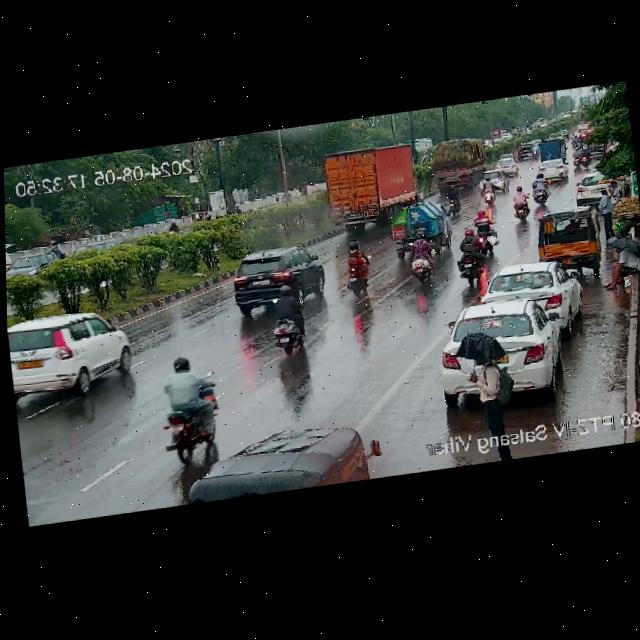car: (199, 421, 379, 498), (9, 301, 131, 405), (432, 306, 551, 402), (488, 258, 586, 333), (225, 246, 325, 315), (391, 206, 445, 254), (9, 246, 61, 281), (570, 176, 612, 203), (530, 159, 571, 181), (476, 168, 506, 191), (496, 154, 516, 173)
motorcycle: (154, 354, 222, 461), (272, 280, 311, 355), (340, 239, 372, 300), (457, 234, 485, 283), (409, 234, 437, 282), (470, 214, 498, 253), (514, 187, 530, 221), (532, 174, 548, 201), (482, 179, 497, 204)
person: (478, 351, 514, 460), (535, 208, 593, 258), (603, 236, 640, 292), (594, 189, 614, 242)
truck: (325, 146, 418, 225), (427, 136, 485, 193)
